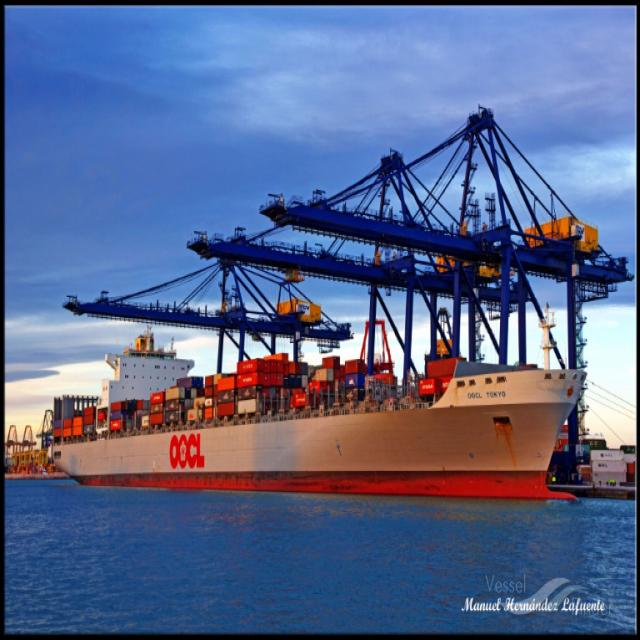Container Ship: (52, 351, 590, 502)
